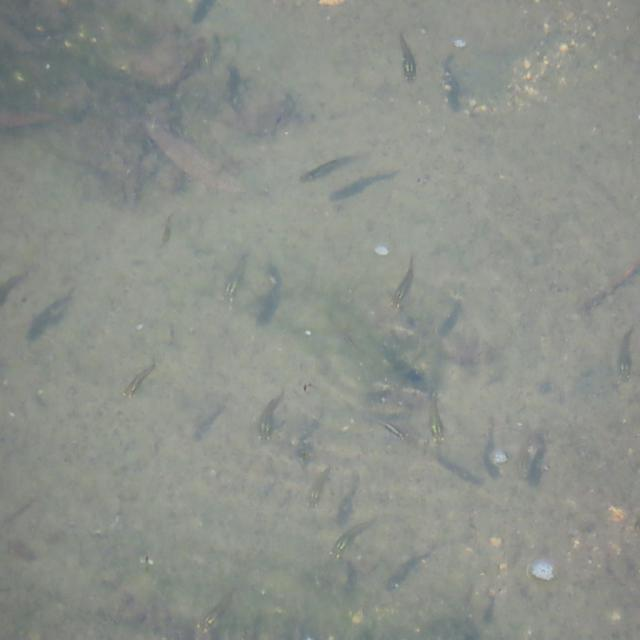Sivrisinek Baligi: (23, 286, 78, 346), (188, 583, 245, 639), (328, 508, 384, 562), (297, 147, 369, 185), (385, 545, 434, 593), (606, 322, 638, 388), (254, 388, 288, 444), (388, 253, 418, 312), (222, 245, 251, 306), (304, 461, 336, 512), (122, 355, 159, 399), (392, 33, 422, 86), (424, 388, 450, 447), (378, 418, 404, 443)
